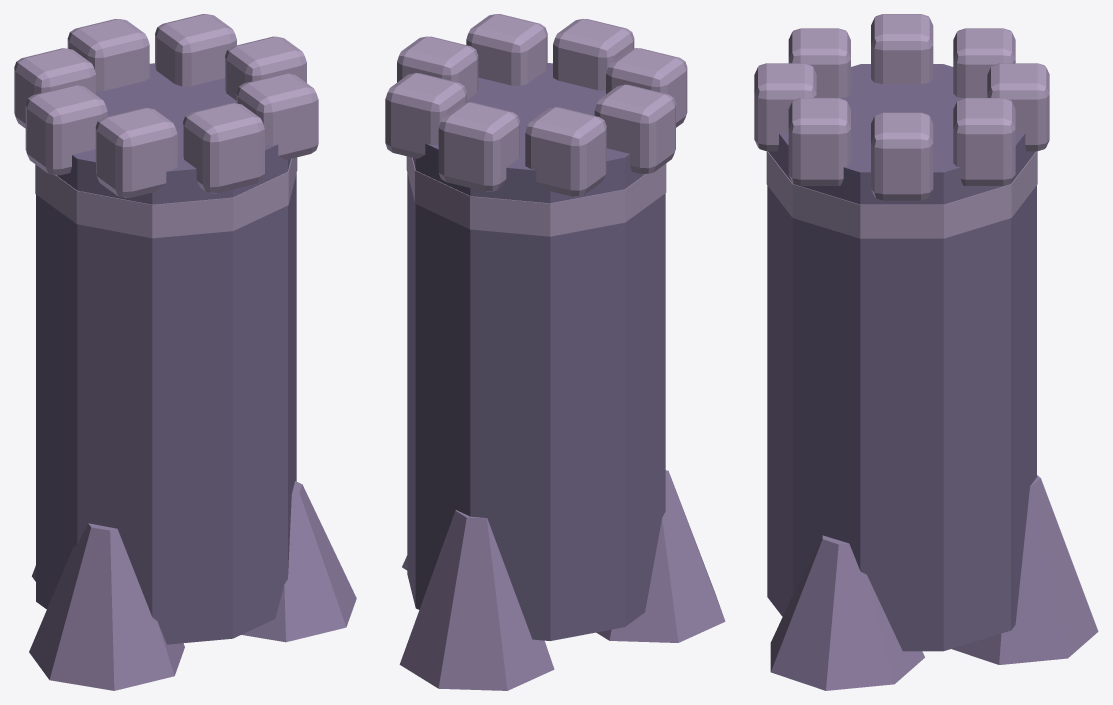
File: ember_tower_d.glb
3 renders of one model, left to right at view 1: azimuth 30°, elevation 25°; view 2: azimuth 150°, elevation 25°; view 3: azimuth 270°, elevation 25°, orthographic.
Visible parts, largest first — view 1: TowerBody.003, BasaltShoulder.010, UpperBand.003, BasaltShoulder.009, Crenel_05.003, Crenel_04.003, Crenel_06.003, Crenel_03.003, Crenel_01.003, Crenel_00.003, Crenel_07.003, Crenel_02.003; view 2: TowerBody.003, BasaltShoulder.011, UpperBand.003, BasaltShoulder.010, Crenel_00.003, Crenel_07.003, Crenel_06.003, Crenel_01.003, Crenel_03.003, Crenel_04.003, Crenel_05.003, Crenel_02.003; view 3: TowerBody.003, BasaltShoulder.009, BasaltShoulder.011, UpperBand.003, Crenel_02.003, Crenel_01.003, Crenel_03.003, Crenel_06.003, Crenel_00.003, Crenel_04.003, Crenel_07.003, Crenel_05.003.
Part boxes in pixels (left/top/right/bottom): TowerBody.003: left=36, top=63, right=296, bottom=644; BasaltShoulder.010: left=29, top=523, right=184, bottom=690; UpperBand.003: left=35, top=157, right=297, bottom=238; BasaltShoulder.009: left=241, top=481, right=356, bottom=642; Crenel_05.003: left=95, top=108, right=177, bottom=197; Crenel_04.003: left=183, top=103, right=264, bottom=193; Crenel_06.003: left=25, top=85, right=107, bottom=175; Crenel_03.003: left=236, top=73, right=318, bottom=159; Crenel_01.003: left=155, top=14, right=236, bottom=86; Crenel_00.003: left=67, top=19, right=149, bottom=91; Crenel_07.003: left=14, top=48, right=95, bottom=128; Crenel_02.003: left=225, top=36, right=306, bottom=100; TowerBody.003: left=407, top=63, right=665, bottom=640; BasaltShoulder.011: left=399, top=510, right=554, bottom=690; UpperBand.003: left=406, top=156, right=666, bottom=236; BasaltShoulder.010: left=596, top=470, right=725, bottom=642; Crenel_00.003: left=438, top=102, right=519, bottom=191; Crenel_07.003: left=525, top=107, right=606, bottom=196; Crenel_06.003: left=594, top=84, right=675, bottom=174; Crenel_01.003: left=385, top=73, right=466, bottom=158; Crenel_03.003: left=466, top=14, right=547, bottom=85; Crenel_04.003: left=553, top=18, right=634, bottom=90; Crenel_05.003: left=606, top=48, right=687, bottom=127; Crenel_02.003: left=397, top=36, right=478, bottom=99; TowerBody.003: left=767, top=64, right=1036, bottom=651; BasaltShoulder.009: left=770, top=535, right=924, bottom=690; BasaltShoulder.011: left=952, top=475, right=1098, bottom=664; UpperBand.003: left=766, top=151, right=1037, bottom=238; Crenel_02.003: left=871, top=112, right=933, bottom=200; Crenel_01.003: left=953, top=98, right=1015, bottom=185; Crenel_03.003: left=788, top=98, right=850, bottom=185; Crenel_06.003: left=871, top=14, right=933, bottom=83; Crenel_00.003: left=987, top=63, right=1049, bottom=151; Crenel_04.003: left=754, top=63, right=816, bottom=151; Crenel_07.003: left=953, top=28, right=1015, bottom=98; Crenel_05.003: left=788, top=28, right=850, bottom=98.
Size of the model in its own units: 5.29 by 9.08 by 5.08.
